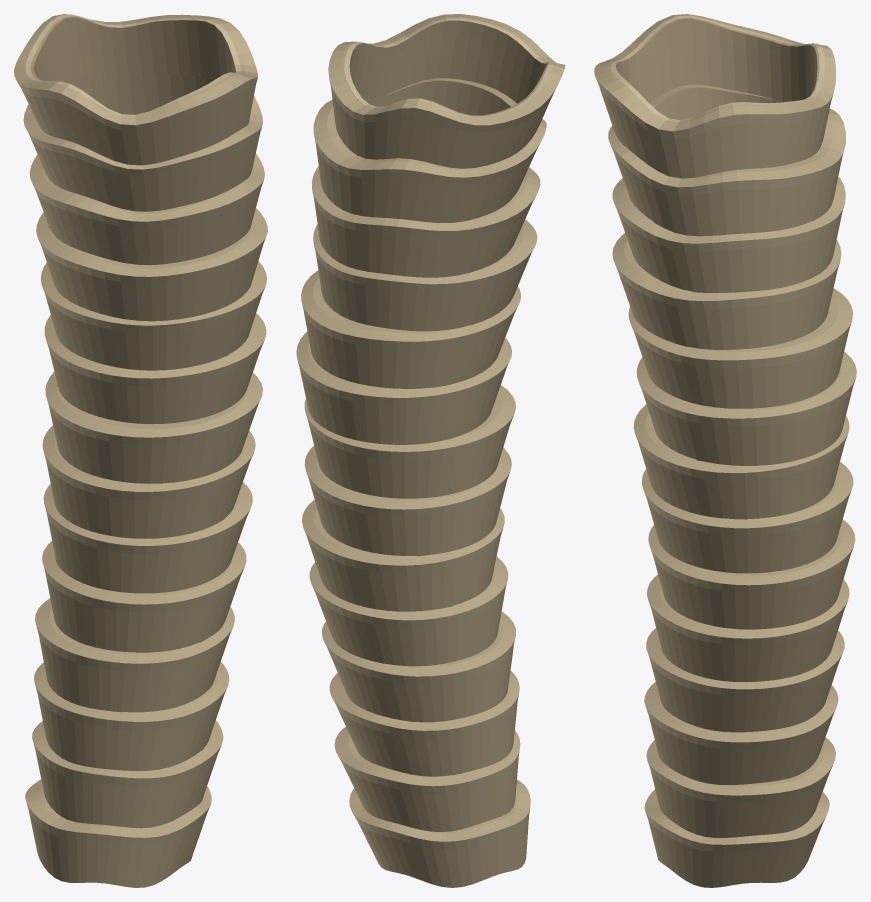
The model's file is cloudina.glb.
3 views of the same model, side by side, from view 1: azimuth 30°, elevation 25°; view 2: azimuth 150°, elevation 25°; view 3: azimuth 270°, elevation 25° (orthographic). The views are drawn at different scales.
Parts seen in each view (by area): view 1: single_Cloudina_incomplete_hollow_skeletal_fragment_nested_e; view 2: single_Cloudina_incomplete_hollow_skeletal_fragment_nested_e; view 3: single_Cloudina_incomplete_hollow_skeletal_fragment_nested_e.
Boxes of the visible parts, bbox=[...] form: single_Cloudina_incomplete_hollow_skeletal_fragment_nested_e: bbox=[14, 14, 267, 887]; single_Cloudina_incomplete_hollow_skeletal_fragment_nested_e: bbox=[296, 14, 565, 887]; single_Cloudina_incomplete_hollow_skeletal_fragment_nested_e: bbox=[594, 14, 856, 887].
Bounding box in the file's own units: 0.00368 × 0.0122 × 0.0036.
